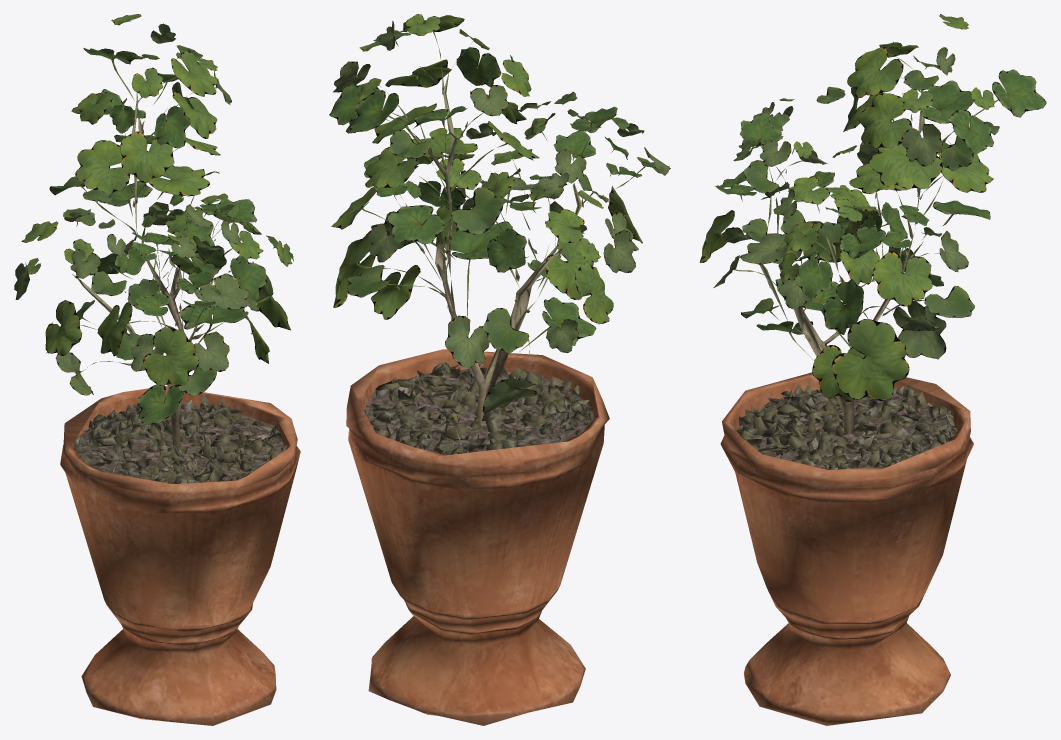
Rendered from potted_plant_01.glb.
3 views of the same model, side by side, from view 1: azimuth 30°, elevation 25°; view 2: azimuth 150°, elevation 25°; view 3: azimuth 270°, elevation 25° (orthographic). The views are drawn at different scales.
Visible parts, largest first — view 1: potted_plant_01_stem, potted_plant_01_leaves; view 2: potted_plant_01_stem, potted_plant_01_leaves; view 3: potted_plant_01_stem, potted_plant_01_leaves.
Boxes of the visible parts, x1,y1,x2,y2 form: potted_plant_01_stem: (60, 92, 300, 725); potted_plant_01_leaves: (14, 14, 293, 424); potted_plant_01_stem: (346, 72, 609, 725); potted_plant_01_leaves: (329, 14, 670, 414); potted_plant_01_stem: (720, 90, 973, 725); potted_plant_01_leaves: (699, 14, 1046, 401).
Bounding box in the file's own units: 0.5866 × 1.34 × 0.6336.
Materials: 2 (2 with a texture image).
